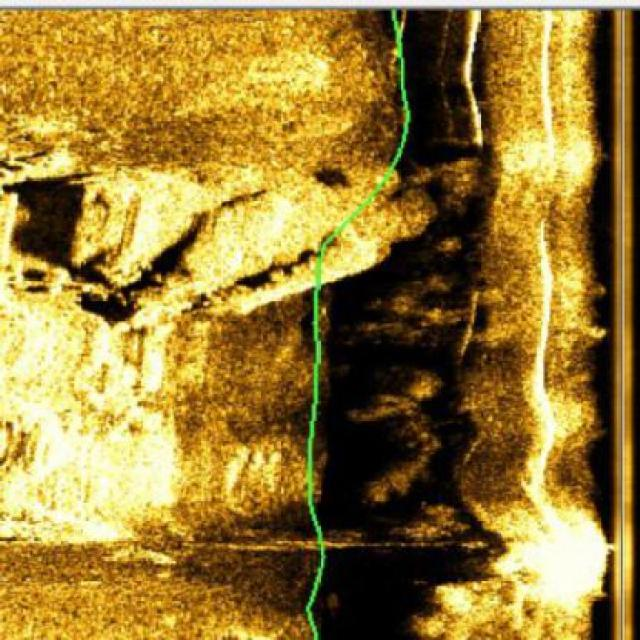bedrock group: (0, 139, 435, 538)
